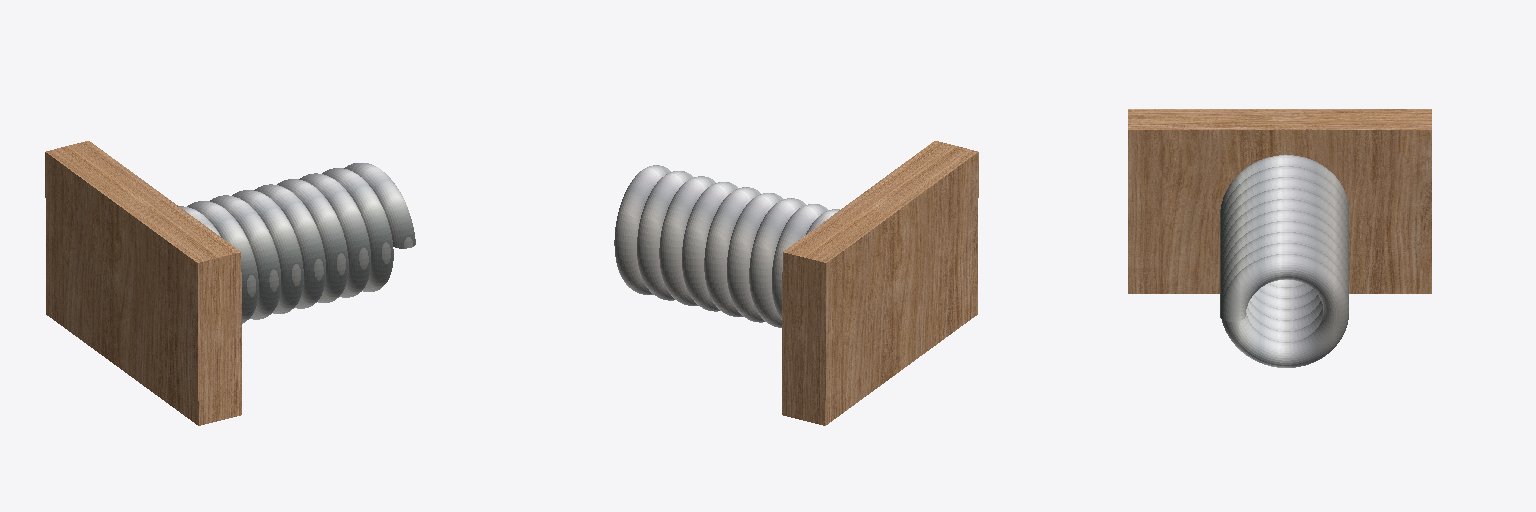
The picture shows the model from 3 angles: view 1: azimuth 30°, elevation 25°; view 2: azimuth 150°, elevation 25°; view 3: azimuth 270°, elevation 25°; orthographic projection.
Visible parts, largest first — view 1: Box001; view 2: Box001; view 3: Box001.
Boxes of the visible parts, x1=… form: Box001: x1=45, y1=141, x2=415, y2=425; Box001: x1=614, y1=141, x2=978, y2=425; Box001: x1=1128, y1=109, x2=1431, y2=367.
Bounding box in the file's own units: 2.61 × 1.52 × 2.56.
2 materials, 2 textured.